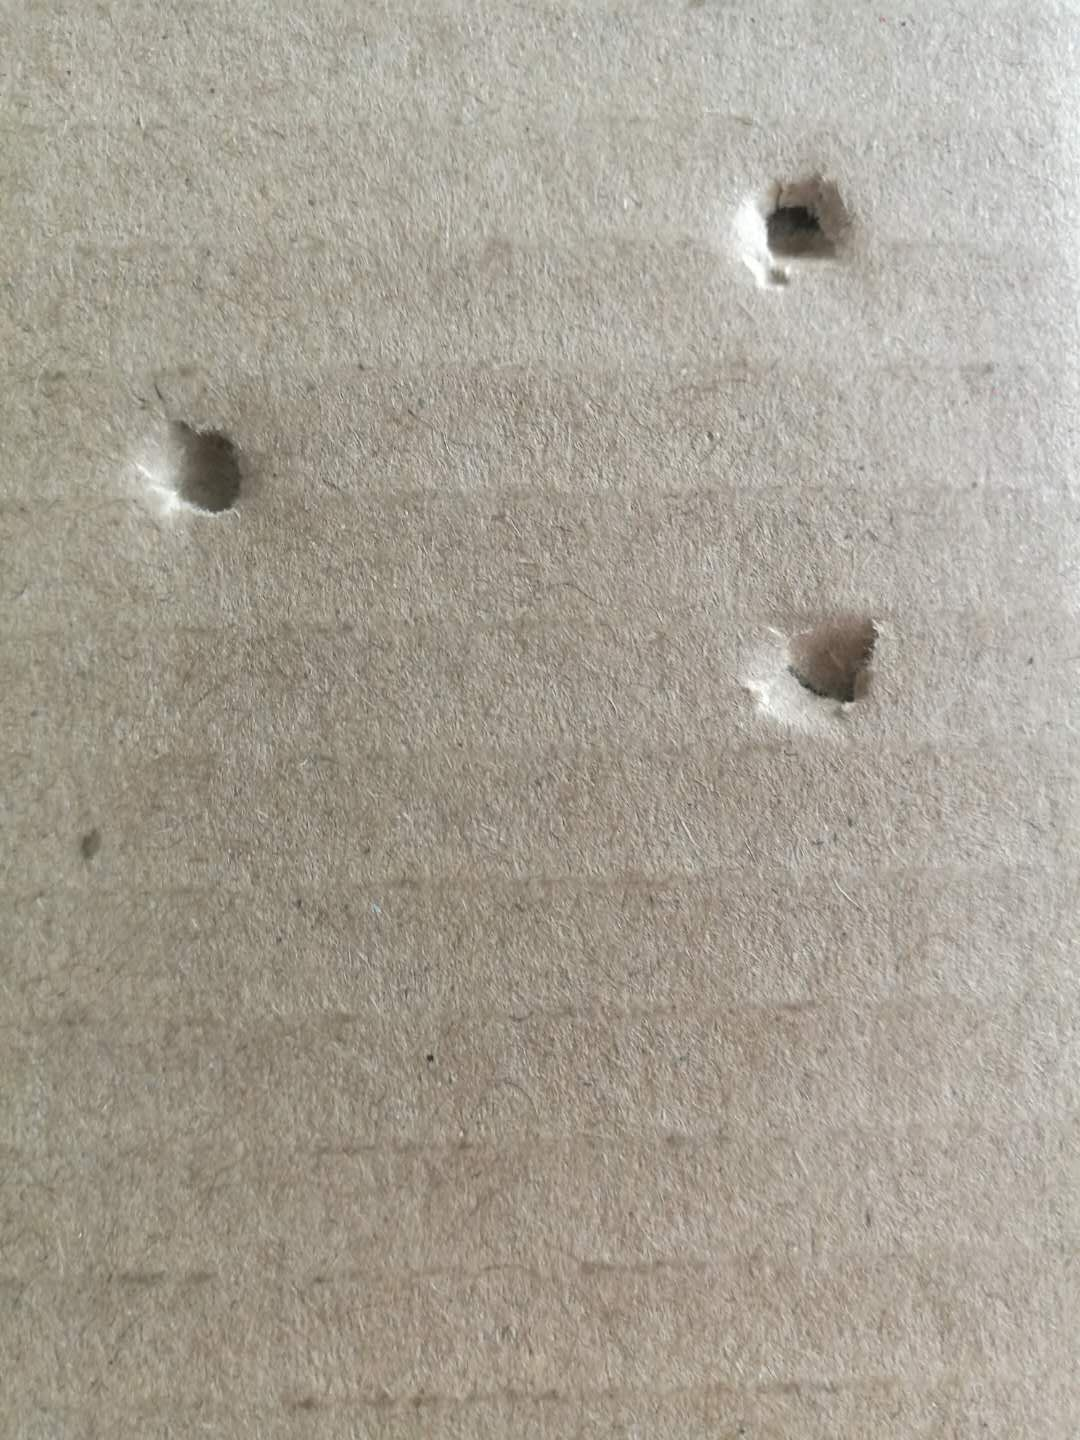defect: (711, 575, 919, 759), (704, 136, 908, 315), (106, 358, 282, 558)
